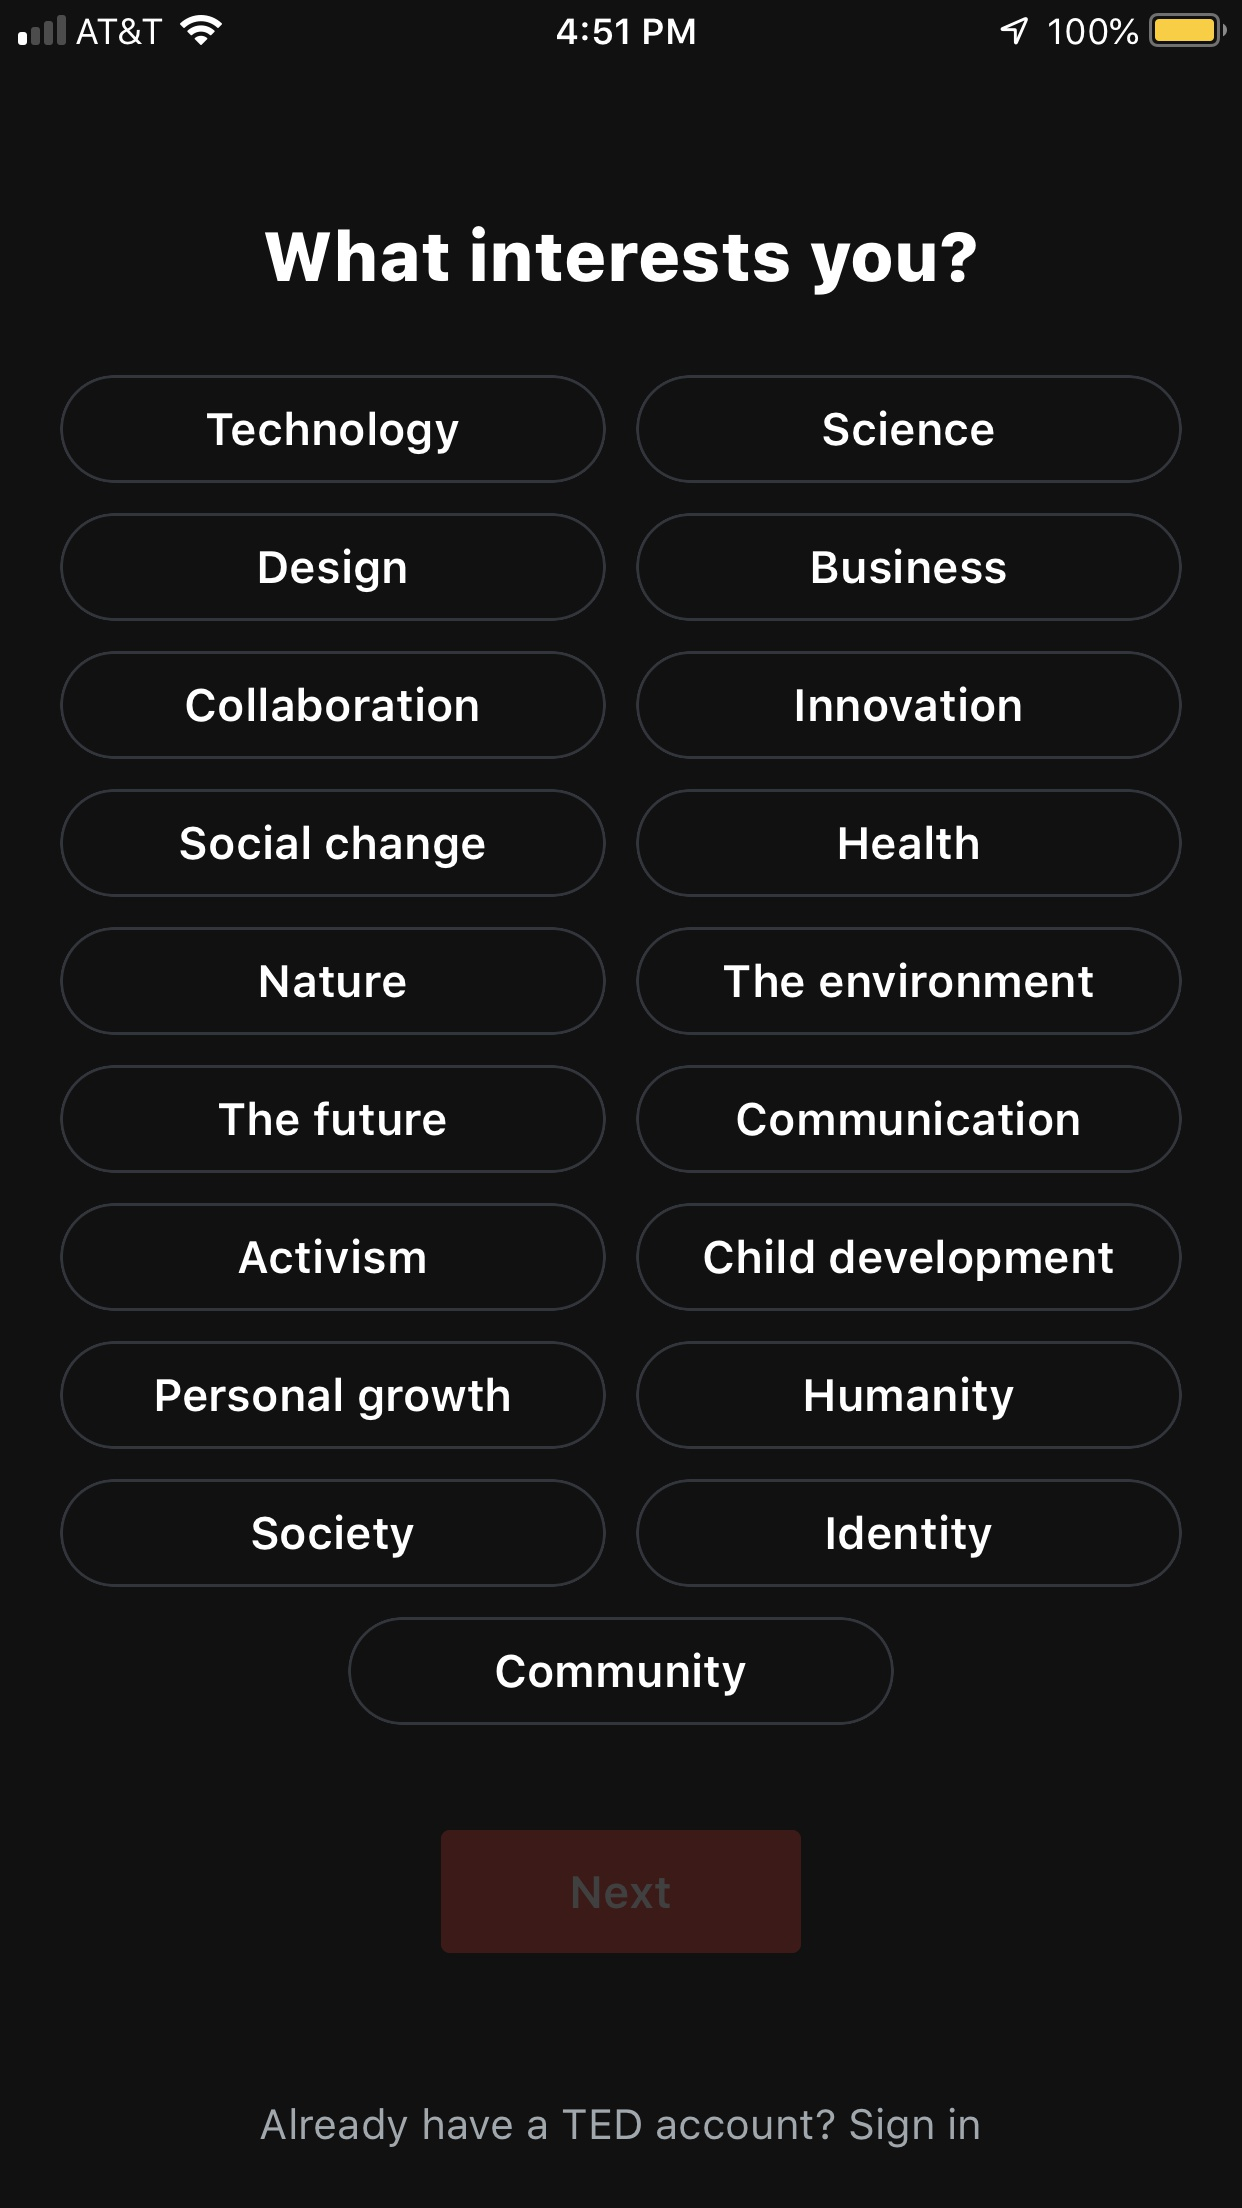Text: (264, 226, 977, 297), (259, 2106, 980, 2149)
TextButton: (61, 375, 608, 485), (635, 375, 1183, 485), (635, 513, 1183, 623), (61, 513, 608, 623), (59, 651, 607, 761), (635, 651, 1183, 761), (61, 789, 608, 899), (59, 927, 607, 1037), (635, 1065, 1183, 1175), (59, 1065, 607, 1175), (61, 1203, 608, 1313), (61, 1341, 608, 1450), (635, 789, 1183, 898), (635, 1203, 1183, 1312), (635, 1341, 1183, 1450), (635, 1479, 1183, 1588), (61, 1479, 608, 1588), (347, 1617, 895, 1726), (635, 927, 1181, 1036), (441, 1830, 804, 1955)
UpperTaskBar: (2, 2, 1242, 49)
